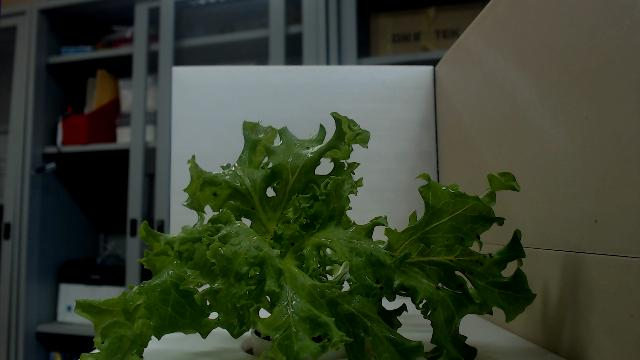Harvest Stage: (73, 110, 539, 360)
